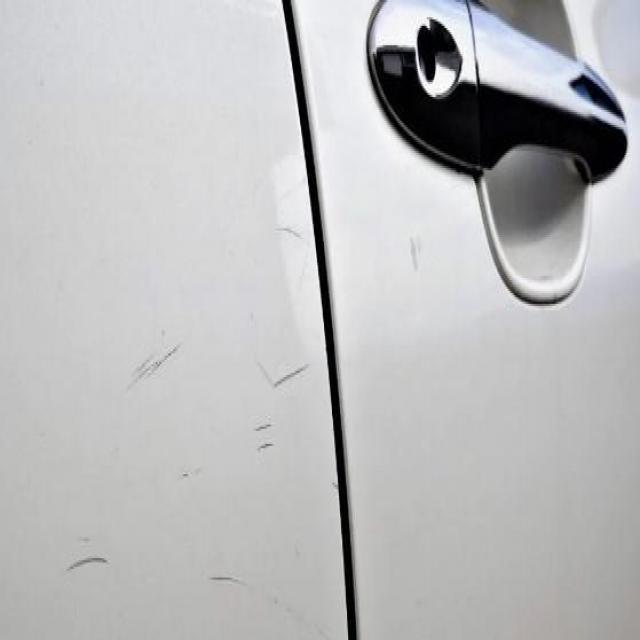scratch: (108, 330, 192, 412), (62, 534, 114, 586), (265, 350, 319, 396), (242, 417, 288, 460)
